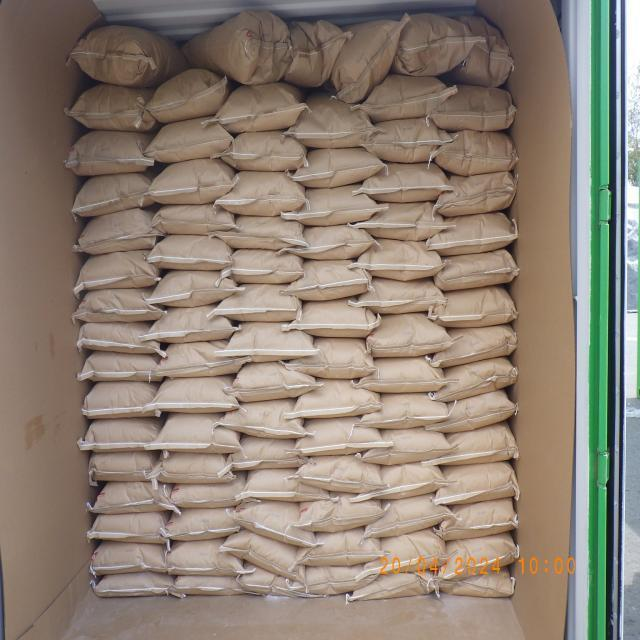gunny_bag: (184, 11, 294, 88), (68, 24, 189, 89), (326, 16, 406, 105), (397, 16, 488, 80), (288, 90, 379, 149), (359, 528, 451, 581), (359, 73, 456, 122), (218, 85, 310, 136), (149, 68, 232, 124), (224, 530, 312, 582), (282, 184, 386, 228), (69, 86, 159, 136), (230, 500, 320, 550), (217, 172, 310, 220), (423, 389, 518, 435), (147, 156, 238, 204), (74, 208, 164, 256), (424, 421, 520, 466), (438, 532, 520, 584), (424, 212, 516, 258), (362, 118, 454, 164), (431, 88, 521, 135), (65, 130, 156, 176), (144, 118, 234, 164), (218, 398, 312, 442), (362, 492, 452, 537), (432, 130, 520, 176), (366, 314, 454, 360), (350, 238, 444, 281), (358, 162, 454, 204), (434, 355, 518, 403), (222, 322, 318, 364), (356, 462, 452, 504), (435, 463, 522, 509), (150, 413, 243, 456), (432, 324, 518, 370), (292, 148, 386, 190), (71, 170, 155, 217), (436, 173, 520, 220), (292, 377, 386, 419), (154, 340, 252, 380), (428, 284, 517, 328), (282, 259, 373, 302), (287, 298, 382, 339), (359, 428, 456, 468), (296, 415, 388, 457), (356, 201, 452, 241), (434, 249, 521, 293), (219, 130, 310, 172), (215, 280, 306, 322), (297, 490, 388, 532), (145, 268, 240, 308), (230, 360, 320, 402), (144, 304, 238, 344), (355, 356, 449, 396), (293, 528, 387, 568), (288, 338, 377, 380), (350, 276, 448, 314), (284, 28, 346, 88), (75, 250, 162, 292), (284, 224, 378, 262), (75, 286, 169, 324), (437, 496, 518, 540), (294, 457, 385, 495), (153, 374, 244, 412), (210, 214, 305, 250), (238, 470, 332, 506), (88, 480, 182, 516), (144, 233, 233, 271), (357, 394, 448, 431), (222, 248, 308, 286), (350, 566, 440, 602), (84, 382, 165, 422), (78, 322, 168, 358), (82, 416, 166, 454), (228, 435, 314, 472), (88, 513, 175, 548), (398, 11, 468, 54), (167, 540, 247, 577), (237, 564, 319, 600), (162, 476, 254, 508), (294, 564, 380, 598), (78, 350, 168, 382), (153, 202, 240, 235), (90, 541, 172, 576), (154, 450, 236, 484), (164, 506, 245, 540), (436, 568, 516, 600), (92, 570, 182, 598), (90, 454, 168, 486), (454, 48, 516, 88), (172, 574, 258, 596)
